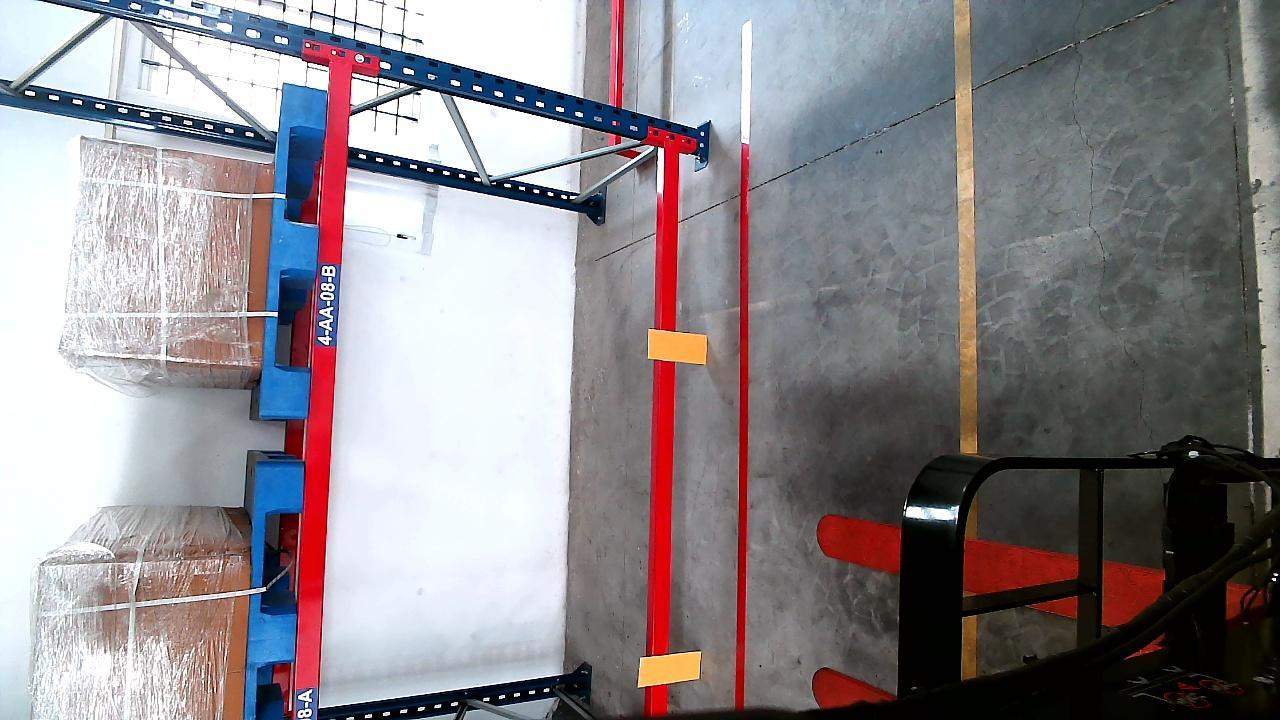red_line: (729, 139, 757, 705)
yellow_line: (955, 2, 981, 443)
